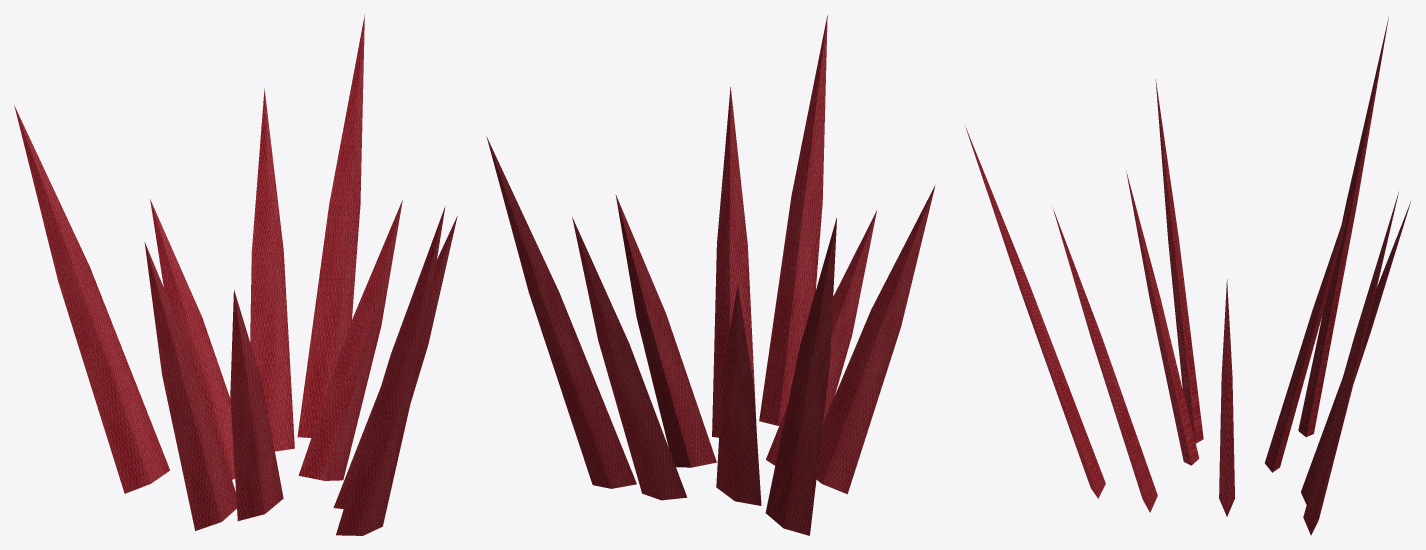
File: grama_de_sangue.glb
The picture shows the model from 3 angles, left to right: view 1: azimuth 30°, elevation 25°; view 2: azimuth 150°, elevation 25°; view 3: azimuth 270°, elevation 25°; orthographic projection. The views are drawn at different scales.
Visible parts, largest first — view 1: grama_de_sangue; view 2: grama_de_sangue; view 3: grama_de_sangue.
Part boxes in pixels (x1,y1,x2,y2): grama_de_sangue: (14, 14, 457, 535); grama_de_sangue: (486, 15, 935, 535); grama_de_sangue: (965, 16, 1410, 535).
Bounding box in the file's own units: 0.6343 × 0.6432 × 0.6855.
Materials: 1 (1 with a texture image).
